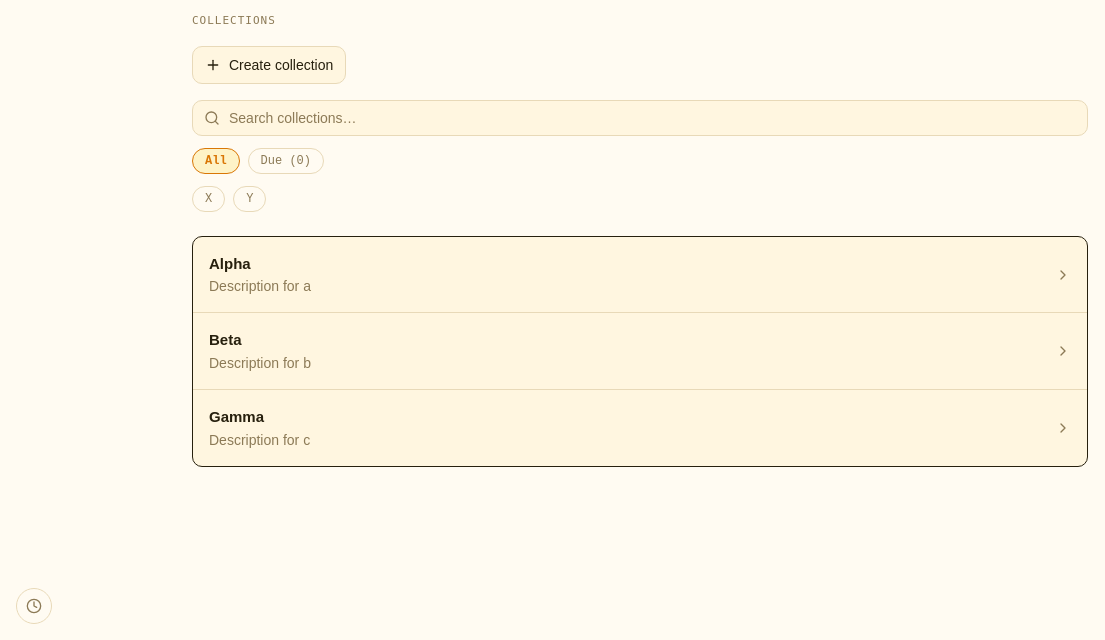
Home — tag filtering › filters collections to those with the selected tag
What coordinates should you click on to do the following:
click the button "Y"
I would click on:
 (250, 199)
Its box is [233,186,266,212].
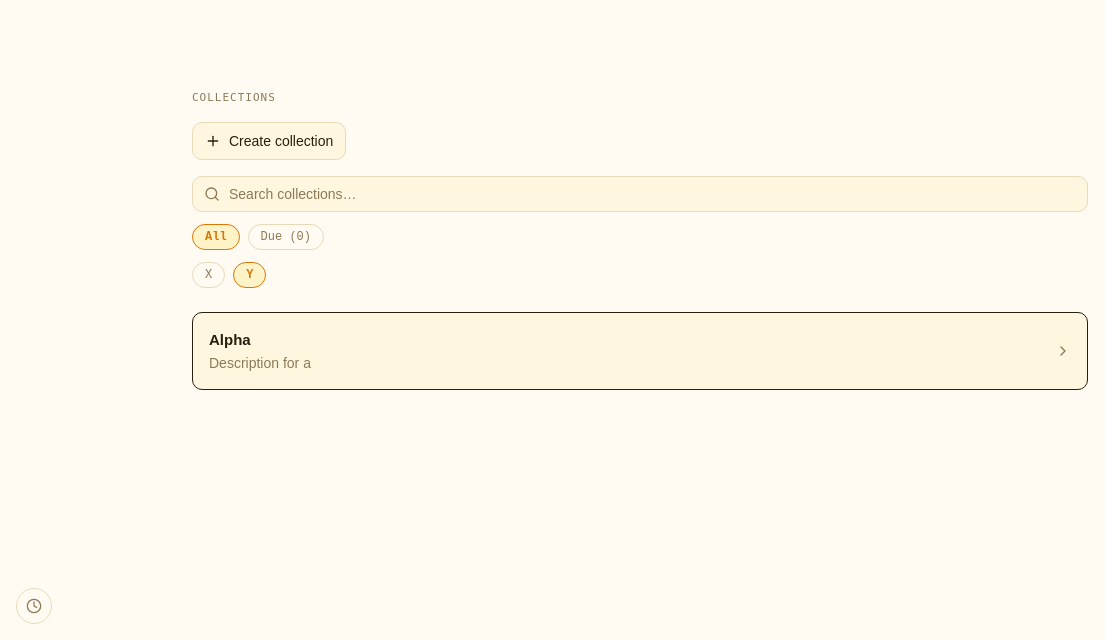
Expected: the heading "Alpha" is shown, [209,329,251,352]
Result: the link "Beta" is gone
Result: the link "Gamma" is gone
